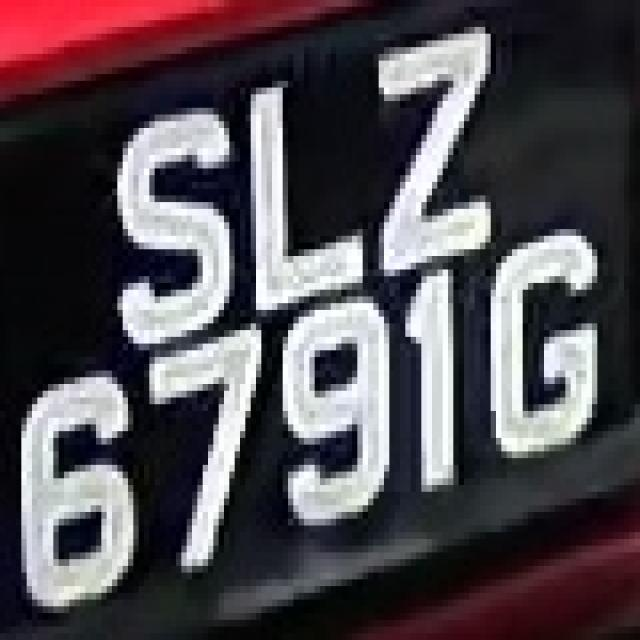1: (395, 229, 464, 505)
6: (11, 351, 160, 634)
7: (112, 337, 277, 613)
9: (267, 276, 405, 532)
G: (469, 216, 608, 472)
L: (224, 81, 379, 303)
S: (96, 88, 240, 330)
Z: (373, 20, 518, 263)
